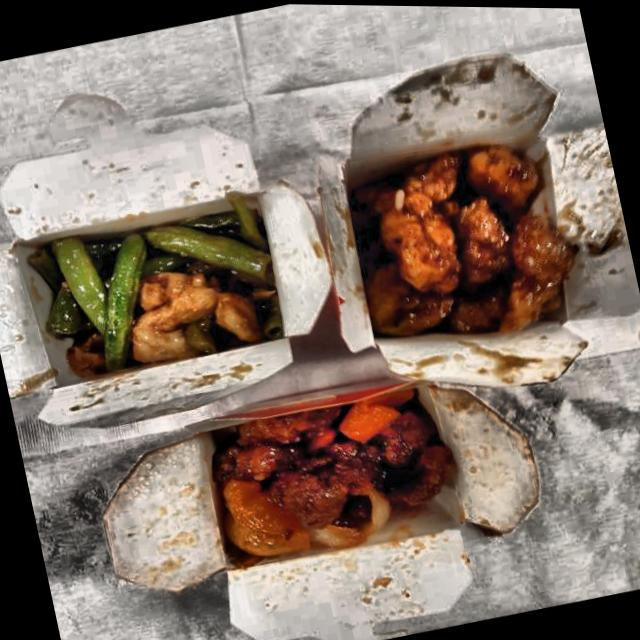Food: (333, 118, 593, 364), (191, 365, 475, 577), (24, 185, 304, 395)
